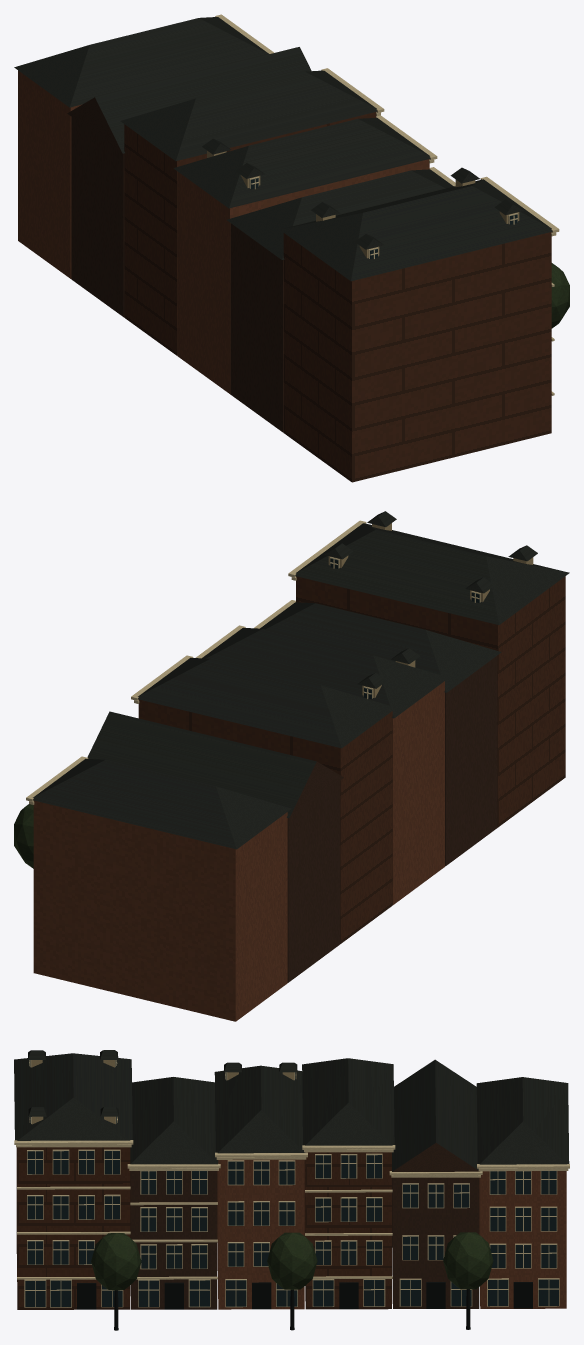
3 views of the same model, one above another, from view 1: azimuth 30°, elevation 25°; view 2: azimuth 150°, elevation 25°; view 3: azimuth 270°, elevation 25° (orthographic). The views are drawn at different scales.
Visible parts, largest first — view 1: schiedamsesingel-noord-2, schiedamsesingel-noord-3, schiedamsesingel-noord-8, schiedamsesingel-noord-7, schiedamsesingel-noord-4, schiedamsesingel-noord-1; view 2: schiedamsesingel-noord-3, schiedamsesingel-noord-8, schiedamsesingel-noord-2, schiedamsesingel-noord-7, schiedamsesingel-noord-4, schiedamsesingel-noord-1; view 3: schiedamsesingel-noord-3, schiedamsesingel-noord-5, schiedamsesingel-noord-4, schiedamsesingel-noord-2, schiedamsesingel-noord-7, schiedamsesingel-noord-8, schiedamsesingel-noord-1, schiedamsesingel-noord-0, schiedamsesingel-noord-6.
Part boxes in pixels (bbox=[...]): schiedamsesingel-noord-2: bbox=[124, 112, 551, 482]; schiedamsesingel-noord-3: bbox=[14, 17, 552, 281]; schiedamsesingel-noord-8: bbox=[18, 70, 429, 393]; schiedamsesingel-noord-7: bbox=[67, 97, 283, 432]; schiedamsesingel-noord-4: bbox=[215, 14, 559, 395]; schiedamsesingel-noord-1: bbox=[551, 263, 569, 328]; schiedamsesingel-noord-3: bbox=[33, 511, 569, 849]; schiedamsesingel-noord-8: bbox=[33, 681, 444, 1021]; schiedamsesingel-noord-2: bbox=[138, 576, 565, 943]; schiedamsesingel-noord-7: bbox=[287, 655, 497, 982]; schiedamsesingel-noord-4: bbox=[26, 520, 480, 804]; schiedamsesingel-noord-1: bbox=[14, 804, 33, 868]; schiedamsesingel-noord-3: bbox=[14, 1050, 569, 1171]; schiedamsesingel-noord-5: bbox=[25, 1060, 558, 1306]; schiedamsesingel-noord-4: bbox=[14, 1060, 569, 1307]; schiedamsesingel-noord-2: bbox=[16, 1147, 391, 1309]; schiedamsesingel-noord-7: bbox=[130, 1143, 479, 1309]; schiedamsesingel-noord-8: bbox=[217, 1159, 566, 1309]; schiedamsesingel-noord-1: bbox=[91, 1232, 493, 1290]; schiedamsesingel-noord-0: bbox=[77, 1282, 532, 1330]; schiedamsesingel-noord-6: bbox=[31, 1060, 294, 1124].
Size of the model in its own units: 26.68 by 21.2 by 55.09.
Materials: 9 (9 with a texture image).
